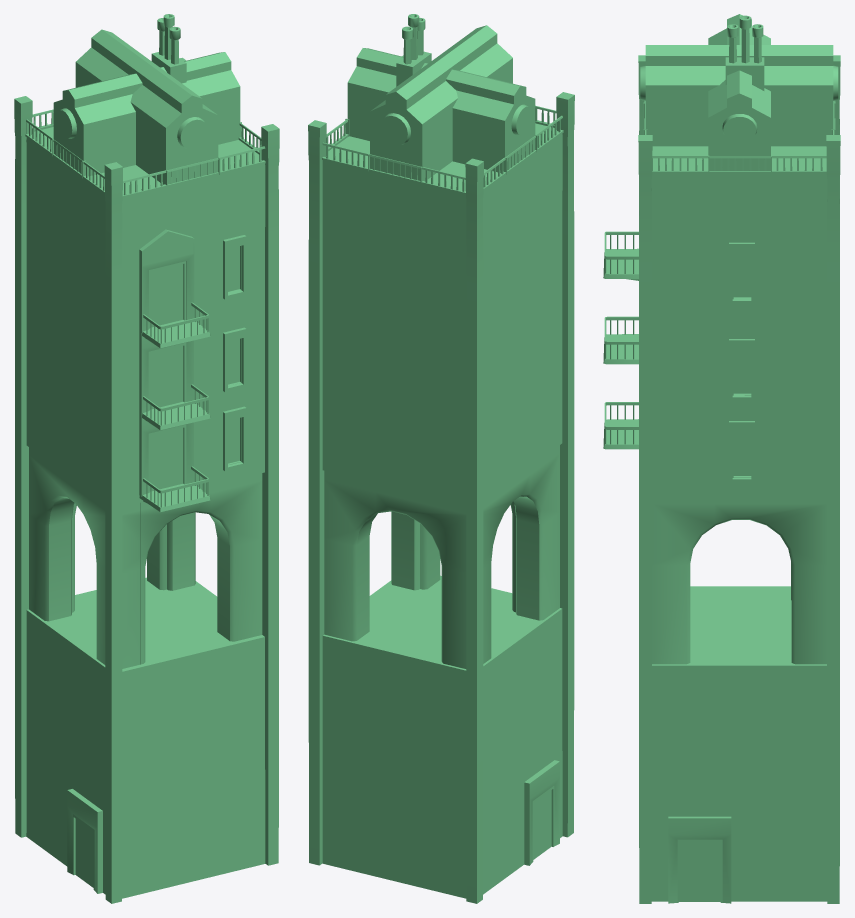
File: Bgr_Building2.fbx
3 views of the same model, side by side, from view 1: azimuth 30°, elevation 25°; view 2: azimuth 150°, elevation 25°; view 3: azimuth 270°, elevation 25° (orthographic). The views are drawn at different scales.
Visible parts, largest first — view 1: Bgr_Building2; view 2: Bgr_Building2; view 3: Bgr_Building2.
Part boxes in pixels (box(x1,y1,x2,y2)): Bgr_Building2: box(14, 14, 279, 903); Bgr_Building2: box(308, 14, 574, 903); Bgr_Building2: box(603, 14, 840, 903).
Bounding box in the file's own units: 968 × 4527 × 1135.
